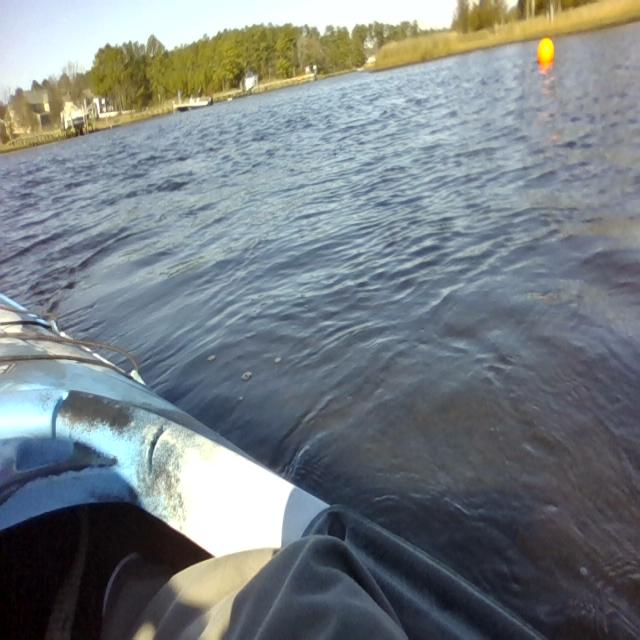Buoy: (533, 34, 559, 72)
